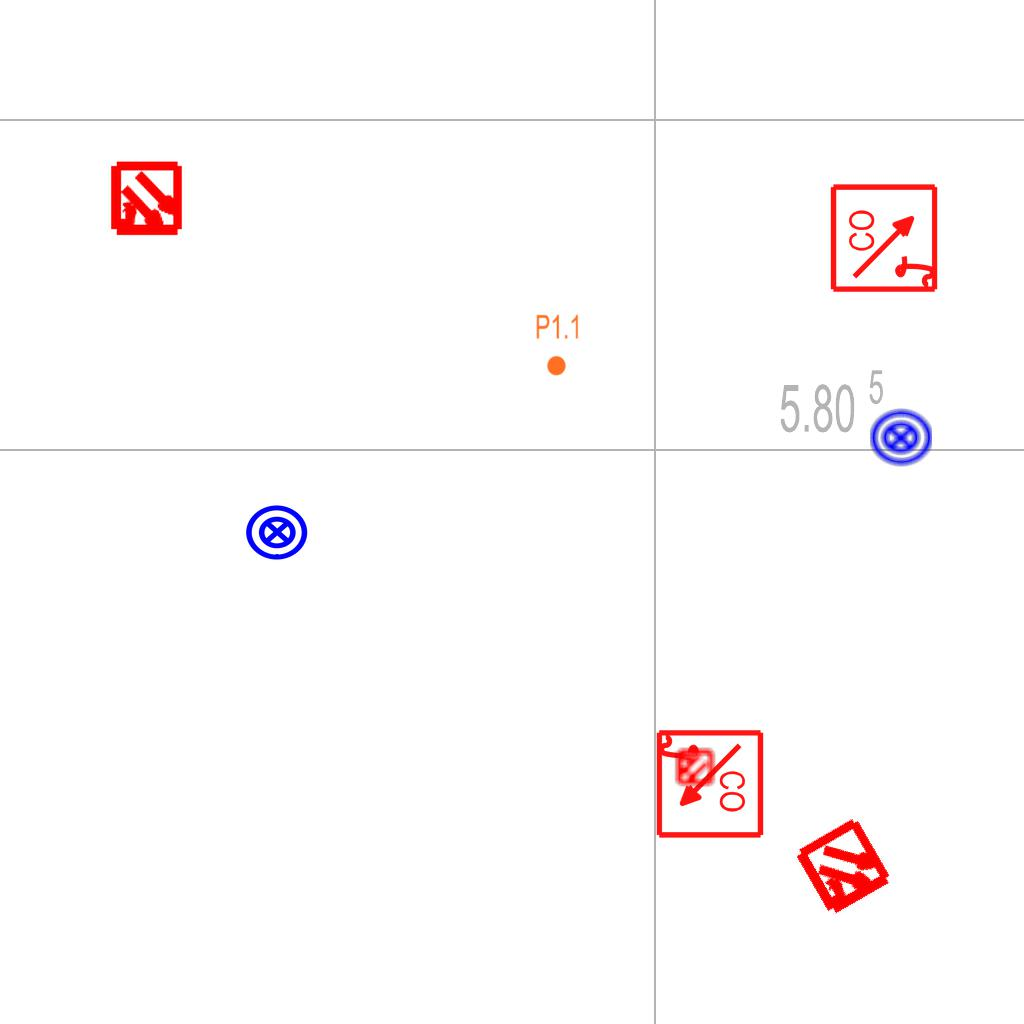Downlight_LED_Einbauleuchten_Flur: (535, 313, 581, 377)
OT_Multisensormelder_(Kombination_RMO_WMD): (767, 791, 922, 946), (90, 144, 203, 257), (666, 739, 722, 795)
ROA_Rauchmelder_optisch_mit_Signalgeber_(Sockelsirene): (829, 181, 942, 294), (652, 728, 765, 841)
Taster_beleuchtet: (868, 405, 934, 471), (244, 499, 310, 565)
